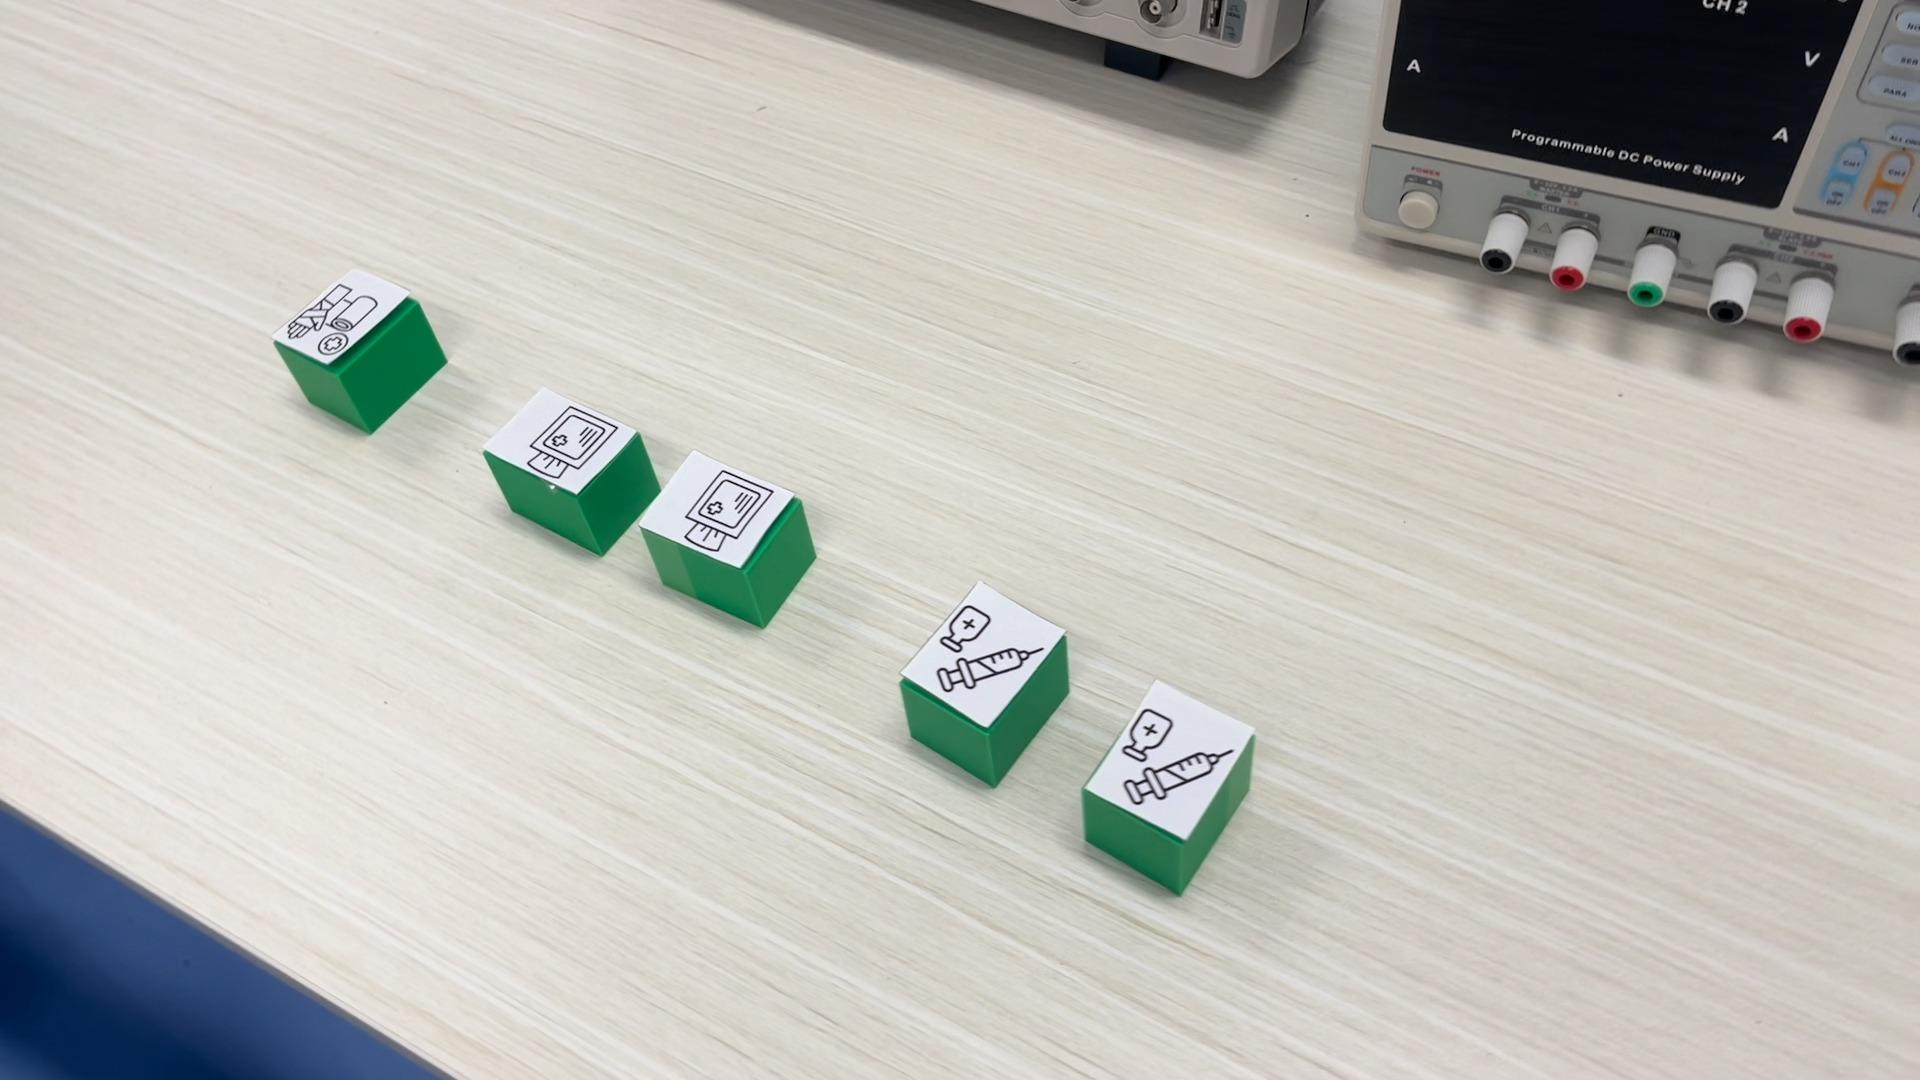Bandages: (270, 264, 450, 434)
Gauze: (632, 451, 818, 628), (481, 385, 659, 556)
antiseptic cream: (1079, 679, 1257, 895), (895, 582, 1068, 789)
